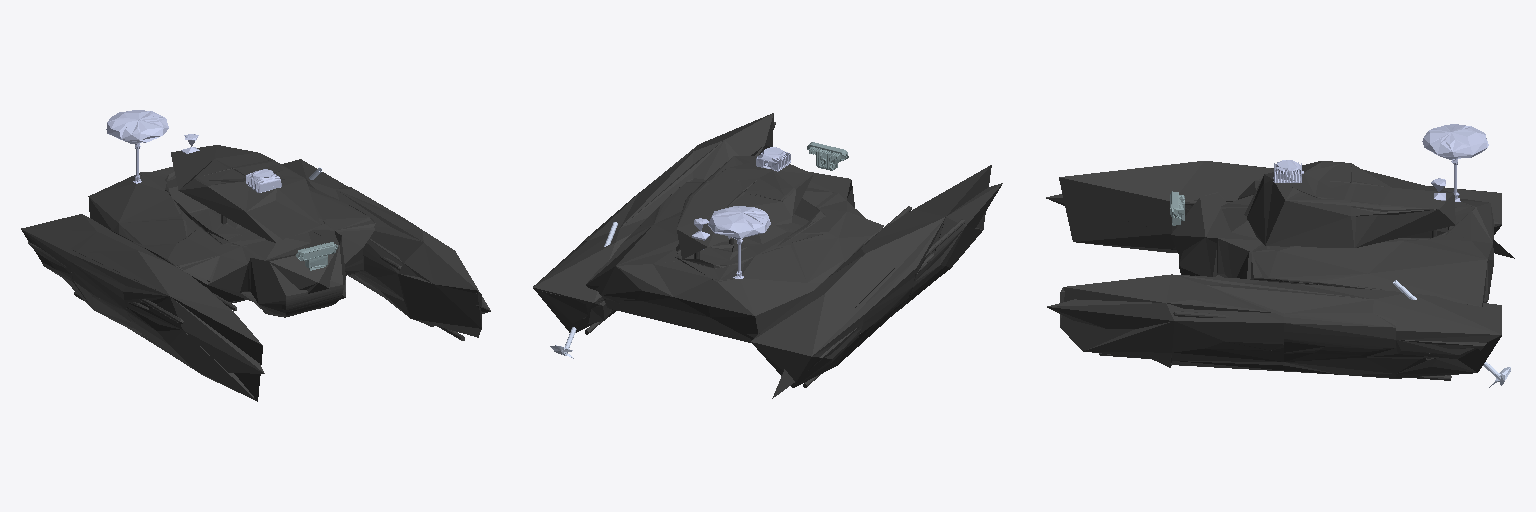
The robot description file, URDF, robot "Girdap":
<?xml version="1.0"?>
<!-- This URDF was automatically created by SolidWorks to URDF Exporter! Originally created by Stephen Brawner (brawner@gmail.com) 
     Commit Version: 1.6.0-4-g7f85cfe  Build Version: 1.6.7995.38578
     For more information, please see http://wiki.ros.org/sw_urdf_exporter -->
<robot
  name="Girdap">
  <link
    name="base_link">
    <inertial>
      <origin
        xyz="9.85971541118582E-05 -0.0715655546706883 -0.598500849362795"
        rpy="0 0 0" />
      <mass
        value="8.75975954543827" />
      <inertia
        ixx="0.0688292644744636"
        ixy="3.62754647397863E-05"
        ixz="-1.10735519256523E-05"
        iyy="0.0655255312350463"
        iyz="-0.00167849965494792"
        izz="0.0531637552221677" />
    </inertial>
    <visual>
      <origin
        xyz="0 0 0"
        rpy="0 0 0" />
      <geometry>
        <mesh
          filename="package://Girdap/meshes/base_link.STL" />
      </geometry>
      <material
        name="">
        <color
          rgba="0.298039215686275 0.298039215686275 0.298039215686275 1" />
      </material>
    </visual>
    
  </link>
  <link
    name="kamera_link">
    <inertial>
      <origin
        xyz="0.000506558960936636 -0.00990955896460521 -0.00766250562193904"
        rpy="0 0 0" />
      <mass
        value="0.0407155106171239" />
      <inertia
        ixx="1.005150383713E-05"
        ixy="5.47812124655946E-09"
        ixz="3.91397519017976E-08"
        iyy="2.65392753535241E-05"
        iyz="-3.21805335336149E-07"
        izz="3.40770222088154E-05" />
    </inertial>
    <visual>
      <origin
        xyz="0 0 0"
        rpy="0 0 0" />
      <geometry>
        <mesh
          filename="package://Girdap/meshes/kamera_link.STL" />
      </geometry>
      <material
        name="">
        <color
          rgba="0.592156862745098 0.666666666666667 0.682352941176471 1" />
      </material>
    </visual>
    
  </link>
  <joint
    name="kamera_link"
    type="fixed">
    <origin
      xyz="-0.0018388 0.258 0.075623"
      rpy="1.5708 0 0" />
    <parent
      link="base_link" />
    <child
      link="kamera_link" />
    <axis
      xyz="0 0 0" />
  </joint>
  <link
    name="lidar_link">
    <inertial>
      <origin
        xyz="0.516118435756135 0.164321958385845 -6.35667019630687E-06"
        rpy="0 0 0" />
      <mass
        value="0.141887342965566" />
      <inertia
        ixx="4.17977384459599E-05"
        ixy="-3.05328884182171E-07"
        ixz="5.52613324143589E-09"
        iyy="6.87998236856538E-05"
        iyz="-4.39952236199982E-10"
        izz="4.50773277349344E-05" />
    </inertial>
    <visual>
      <origin
        xyz="0 0 0"
        rpy="0 0 0" />
      <geometry>
        <mesh
          filename="package://Girdap/meshes/lidar_link.STL" />
      </geometry>
      <material
        name="">
        <color
          rgba="0.792156862745098 0.819607843137255 0.933333333333333 1" />
      </material>
    </visual>
    
  </link>
  <joint
    name="lidar_link"
    type="fixed">
    <origin
      xyz="0 0 0"
      rpy="1.5708 0 1.5708" />
    <parent
      link="base_link" />
    <child
      link="lidar_link" />
    <axis
      xyz="0 0 0" />
  </joint>
  <link
    name="buton_link">
    <inertial>
      <origin
        xyz="0.0185002243779769 0.0149997200530561 0.0328204874793562"
        rpy="0 0 0" />
      <mass
        value="0.0588232194922118" />
      <inertia
        ixx="2.99686739066378E-05"
        ixy="-4.51413675267062E-09"
        ixz="-5.10205957438581E-10"
        iyy="3.11576315400281E-05"
        iyz="6.36447441474456E-10"
        izz="8.87462045184843E-06" />
    </inertial>
    <visual>
      <origin
        xyz="0 0 0"
        rpy="0 0 0" />
      <geometry>
        <mesh
          filename="package://Girdap/meshes/buton_link.STL" />
      </geometry>
      <material
        name="">
        <color
          rgba="0.792156862745098 0.819607843137255 0.933333333333333 1" />
      </material>
    </visual>
    
  </link>
  <joint
    name="buton_link"
    type="fixed">
    <origin
      xyz="-0.0185 0.84489 0.063612"
      rpy="0 0 0" />
    <parent
      link="base_link" />
    <child
      link="buton_link" />
    <axis
      xyz="0 0 0" />
  </joint>
  <link
    name="gps_link">
    <inertial>
      <origin
        xyz="0.000339575962859273 0.00498340400536437 -2.59388401063765E-07"
        rpy="0 0 0" />
      <mass
        value="0.57303411708247" />
      <inertia
        ixx="0.000699084421040958"
        ixy="2.67173790660909E-06"
        ixz="-2.75618934635389E-09"
        iyy="0.00122652348335515"
        iyz="-1.60413205072803E-10"
        izz="0.000694026697272567" />
    </inertial>
    <visual>
      <origin
        xyz="0 0 0"
        rpy="0 0 0" />
      <geometry>
        <mesh
          filename="package://Girdap/meshes/gps_link.STL" />
      </geometry>
      <material
        name="">
        <color
          rgba="0.792156862745098 0.819607843137255 0.933333333333333 1" />
      </material>
    </visual>
    
  </link>
  <joint
    name="gps_link"
    type="fixed">
    <origin
      xyz="-0.12636 0.89602 0.1677"
      rpy="1.5708 0 -1.6347" />
    <parent
      link="base_link" />
    <child
      link="gps_link" />
    <axis
      xyz="0 0 0" />
  </joint>
  <link
    name="lthruster_link">
    <inertial>
      <origin
        xyz="-0.000132048328493006 0.118033700609347 0.000313889023872194"
        rpy="0 0 0" />
      <mass
        value="0.041717172701853" />
      <inertia
        ixx="0.000335302047453241"
        ixy="1.36011211640386E-09"
        ixz="1.41376483974843E-09"
        iyy="3.42307724707207E-06"
        iyz="-4.96190519878195E-10"
        izz="0.000335301932369313" />
    </inertial>
    <visual>
      <origin
        xyz="0 0 0"
        rpy="0 0 0" />
      <geometry>
        <mesh
          filename="package://Girdap/meshes/lthruster_link.STL" />
      </geometry>
      <material
        name="">
        <color
          rgba="0.866666666666667 0.909803921568627 1 1" />
      </material>
    </visual>
    
  </link>
  <joint
    name="lthruster_link"
    type="fixed">
    <origin
      xyz="0.29322 0.99056 -0.21207"
      rpy="1.5708 -0.7854 1.5708" />
    <parent
      link="base_link" />
    <child
      link="lthruster_link" />
    <axis
      xyz="0 0 0" />
  </joint>
  <link
    name="rthruster_link">
    <inertial>
      <origin
        xyz="-0.000132048326732304 0.118033700645791 0.000313889023688285"
        rpy="0 0 0" />
      <mass
        value="0.0417171726907254" />
      <inertia
        ixx="0.000335302047452512"
        ixy="1.36011254997779E-09"
        ixz="1.41376479036767E-09"
        iyy="3.42307724659588E-06"
        iyz="-4.96190571906295E-10"
        izz="0.000335301932368767" />
    </inertial>
    <visual>
      <origin
        xyz="0 0 0"
        rpy="0 0 0" />
      <geometry>
        <mesh
          filename="package://Girdap/meshes/rthruster_link.STL" />
      </geometry>
      <material
        name="">
        <color
          rgba="0.866666666666667 0.909803921568627 1 1" />
      </material>
    </visual>
    
  </link>
  <joint
    name="rthruster_link"
    type="fixed">
    <origin
      xyz="-0.30031 0.99056 -0.21207"
      rpy="1.5708 -0.7854 1.5708" />
    <parent
      link="base_link" />
    <child
      link="rthruster_link" />
    <axis
      xyz="0 0 0" />
  </joint>
</robot>

--- What the picture shows (computed from the rendered views, not written in the file) ---
3 views of the same robot in one strip: view 1: azimuth 30°, elevation 25°; view 2: azimuth 150°, elevation 25°; view 3: azimuth 270°, elevation 25° (orthographic).
Model Girdap with 7 links and 6 joints (6 fixed), rooted at base_link, posed every joint at zero.
Links seen in each view (by area): view 1: base_link, gps_link, kamera_link, lidar_link; view 2: base_link, gps_link, kamera_link, lidar_link; view 3: base_link, gps_link, lidar_link.
Link boxes in pixels (x1,y1,x2,y2): base_link: [21, 145, 490, 401]; gps_link: [106, 110, 168, 183]; kamera_link: [296, 242, 337, 270]; lidar_link: [246, 169, 281, 192]; base_link: [533, 113, 1002, 398]; gps_link: [708, 206, 770, 278]; kamera_link: [807, 142, 848, 170]; lidar_link: [756, 147, 790, 171]; base_link: [1046, 161, 1514, 380]; gps_link: [1422, 124, 1488, 201]; lidar_link: [1273, 160, 1303, 182].
Bounding box of the posed robot: 0.781 × 1.07 × 0.4444 m (x, y, z).
Meshes: 7 distinct files referenced, 6 mesh visuals loaded (6 binary STL); not drawn: 1 (reference not matched to a file when rendering).
